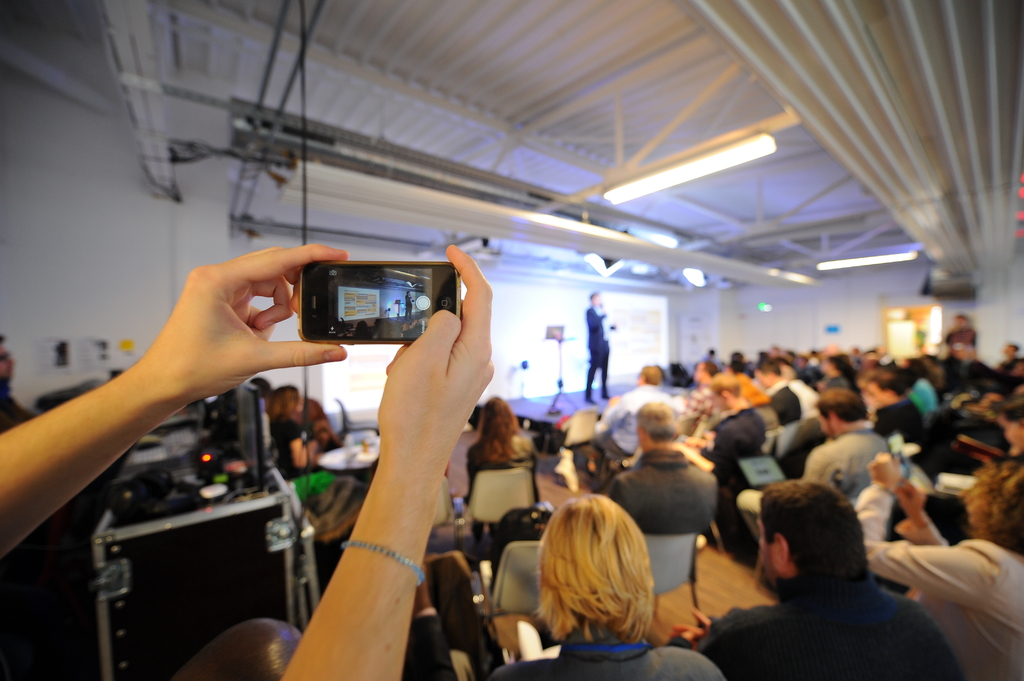Mobile-phone: (303, 259, 462, 345)
